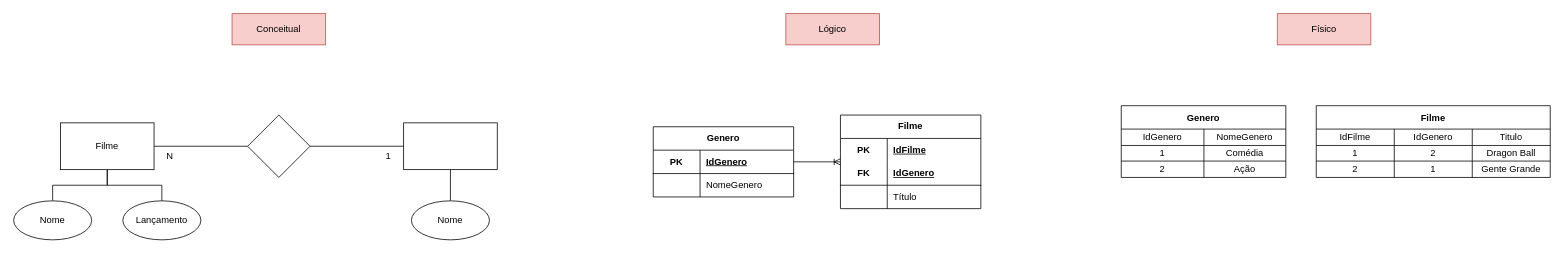
This 1564x253 diagram has some shape labels left out. The centre of each missing label's shape, as x and y in pixels:
Gênero: the point at 450,146
possui: the point at 278,145
